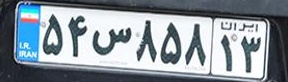character: (90, 21, 133, 60), (40, 10, 67, 59), (133, 17, 158, 68), (183, 18, 207, 69), (159, 16, 182, 68), (66, 10, 88, 61), (239, 32, 262, 75), (216, 33, 235, 72)
